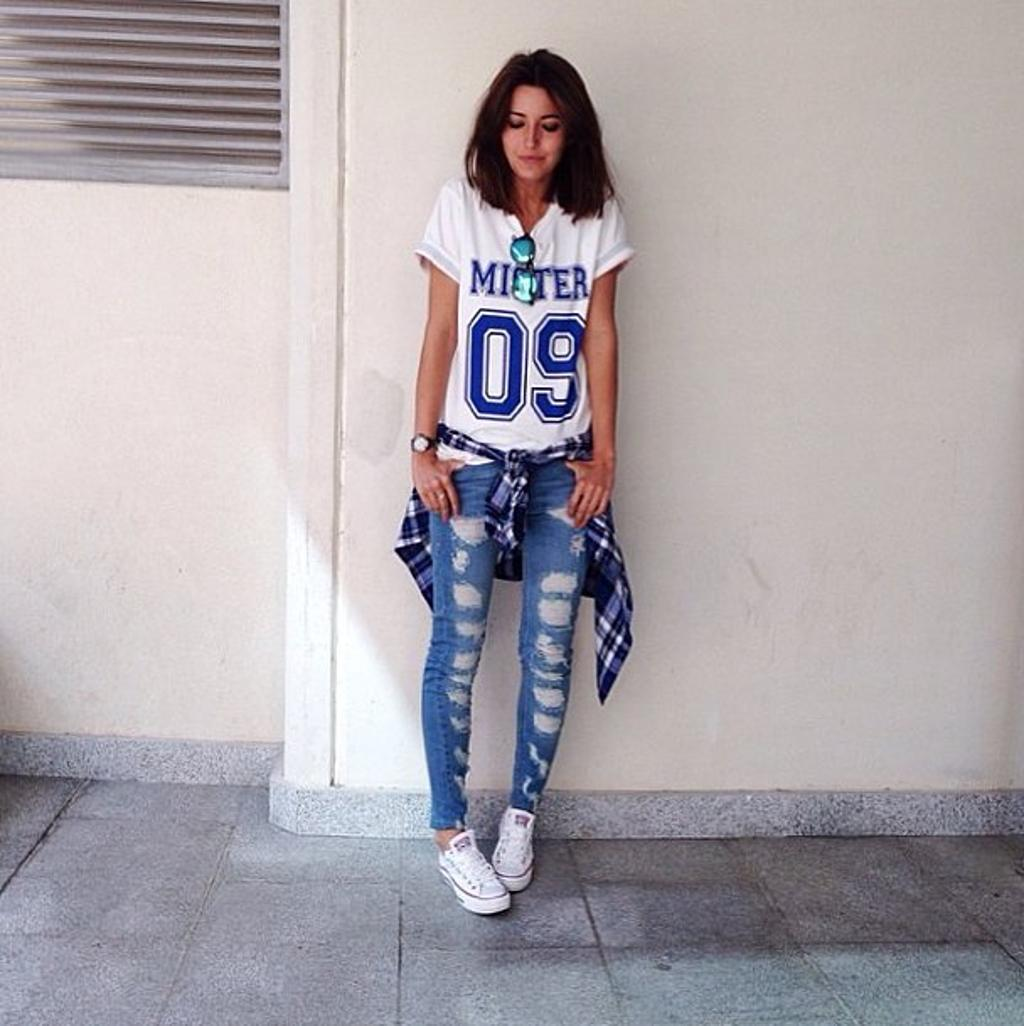face: (499, 86, 567, 180)
